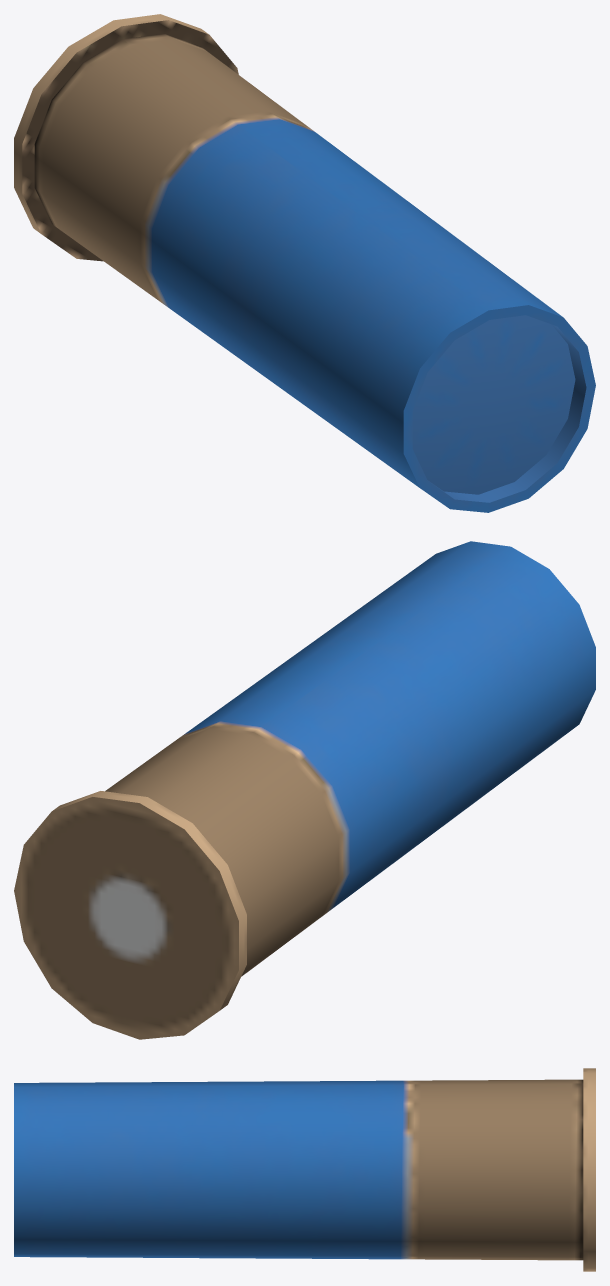
The model's file is Shotgun_Sleeve.FBX.
The picture shows the model from 3 angles, top to bottom: view 1: azimuth 30°, elevation 25°; view 2: azimuth 150°, elevation 25°; view 3: azimuth 270°, elevation 25°; orthographic projection. The views are drawn at different scales.
Visible parts, largest first — view 1: Shogun_Patron_mesh001; view 2: Shogun_Patron_mesh001; view 3: Shogun_Patron_mesh001.
Part boxes in pixels (x1,y1,x2,y2): Shogun_Patron_mesh001: [14, 14, 595, 512]; Shogun_Patron_mesh001: [14, 541, 595, 1039]; Shogun_Patron_mesh001: [14, 1068, 595, 1271].
Size of the model in its own units: 2.43 by 2.44 by 6.97.
